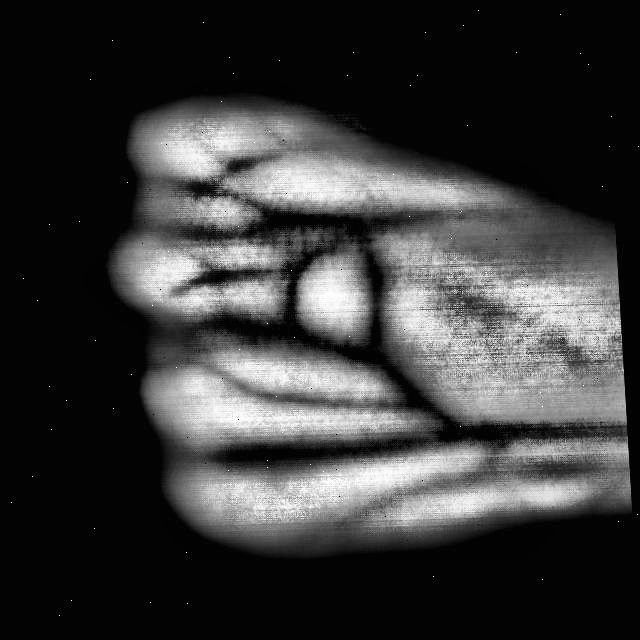Vein: (416, 407, 582, 454)
